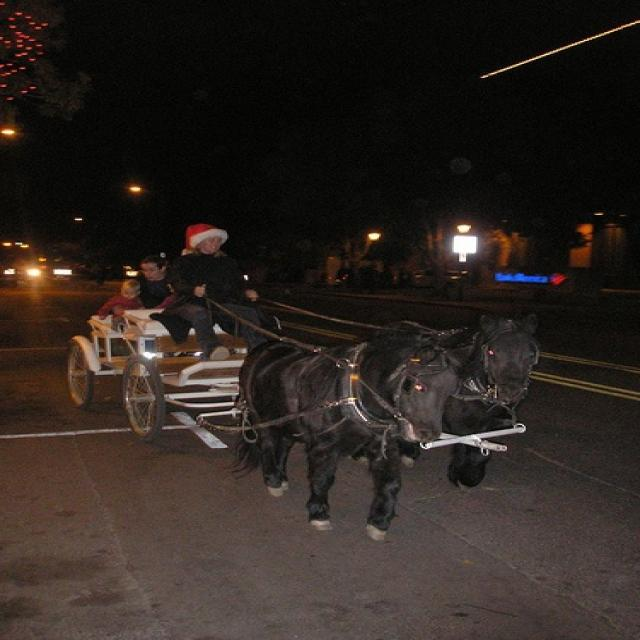horse: (226, 320, 467, 542), (435, 315, 539, 493)
person: (170, 225, 265, 358), (97, 279, 146, 330), (139, 260, 172, 310)
